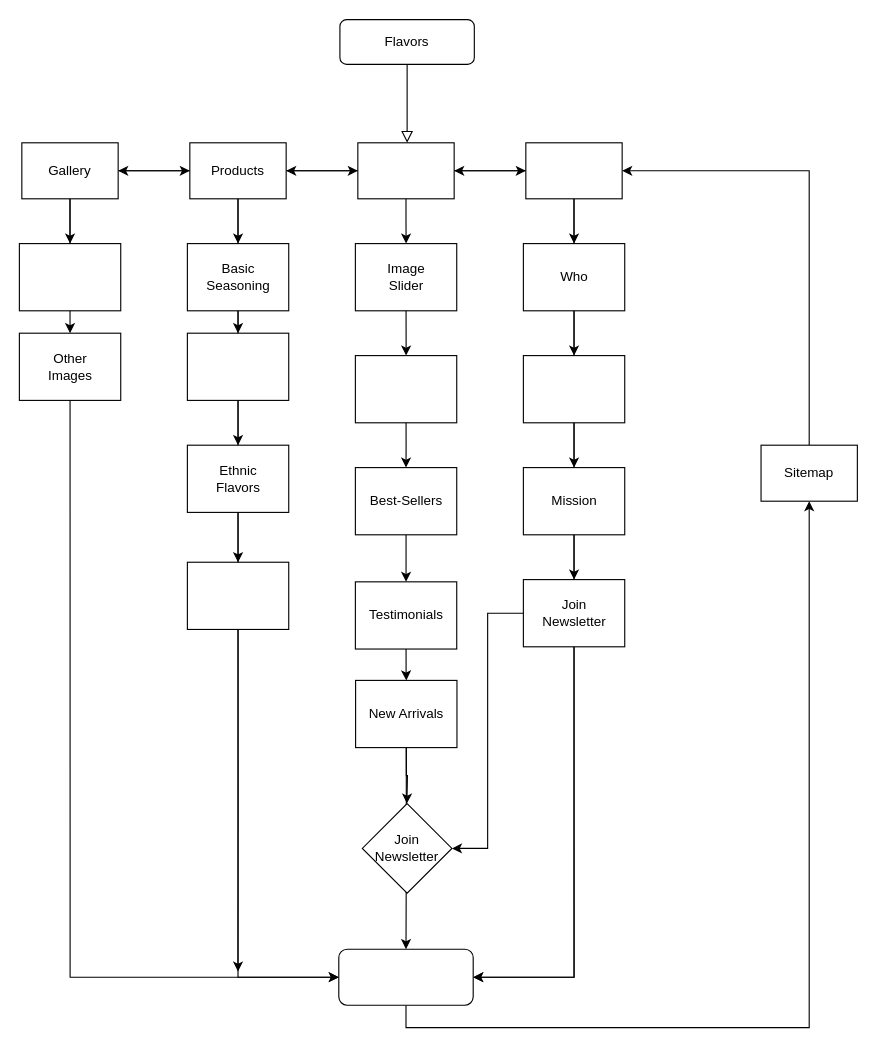
This 878x1056 diagram has some shape labels left out. The shapes that lost their labels are listed below. From the top down, each one's centre as x and y in pixels, then its label:
At (405,170): "Home".
At (573,170): "About".
At (69,276): "Product Images".
At (237,366): "Blended Seasoning".
At (405,388): "About Blurb".
At (573,388): "What".
At (237,595): "Unique Blends".
At (405,976): "Footer".
